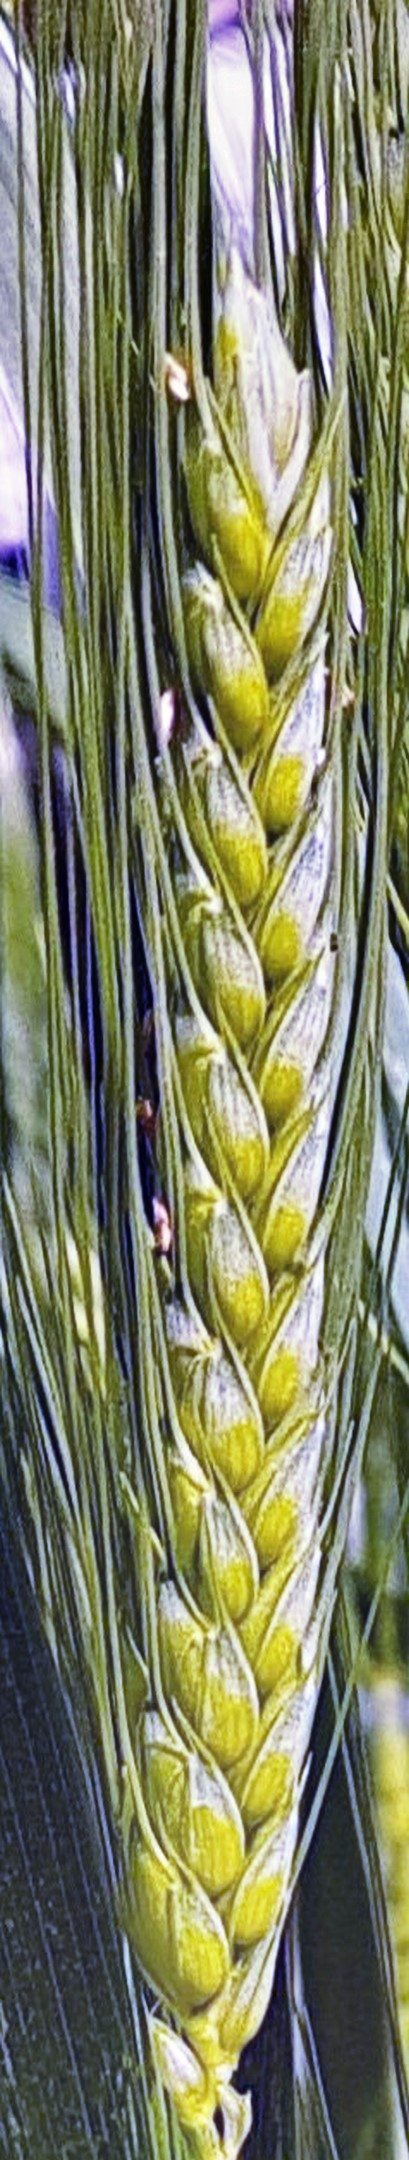Healthy Wheat: (58, 318, 384, 2057)
